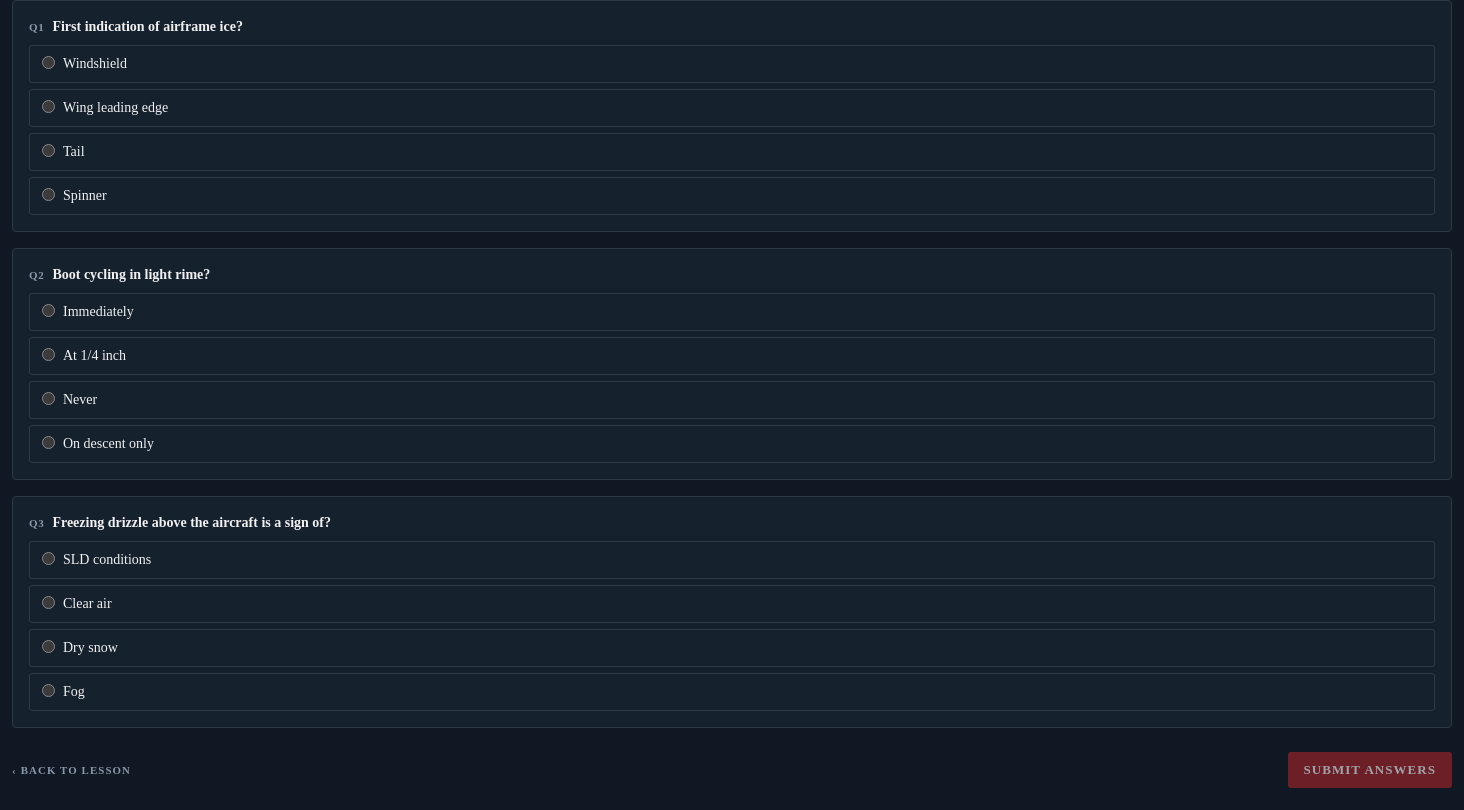
no partial submits › keeps Submit disabled until every question is answered
Check: the button "Submit answers" is disabled, box [1288, 752, 1452, 788]
Click the radio button labelled "Wing leading edge" at (48, 106), box [42, 100, 55, 113]
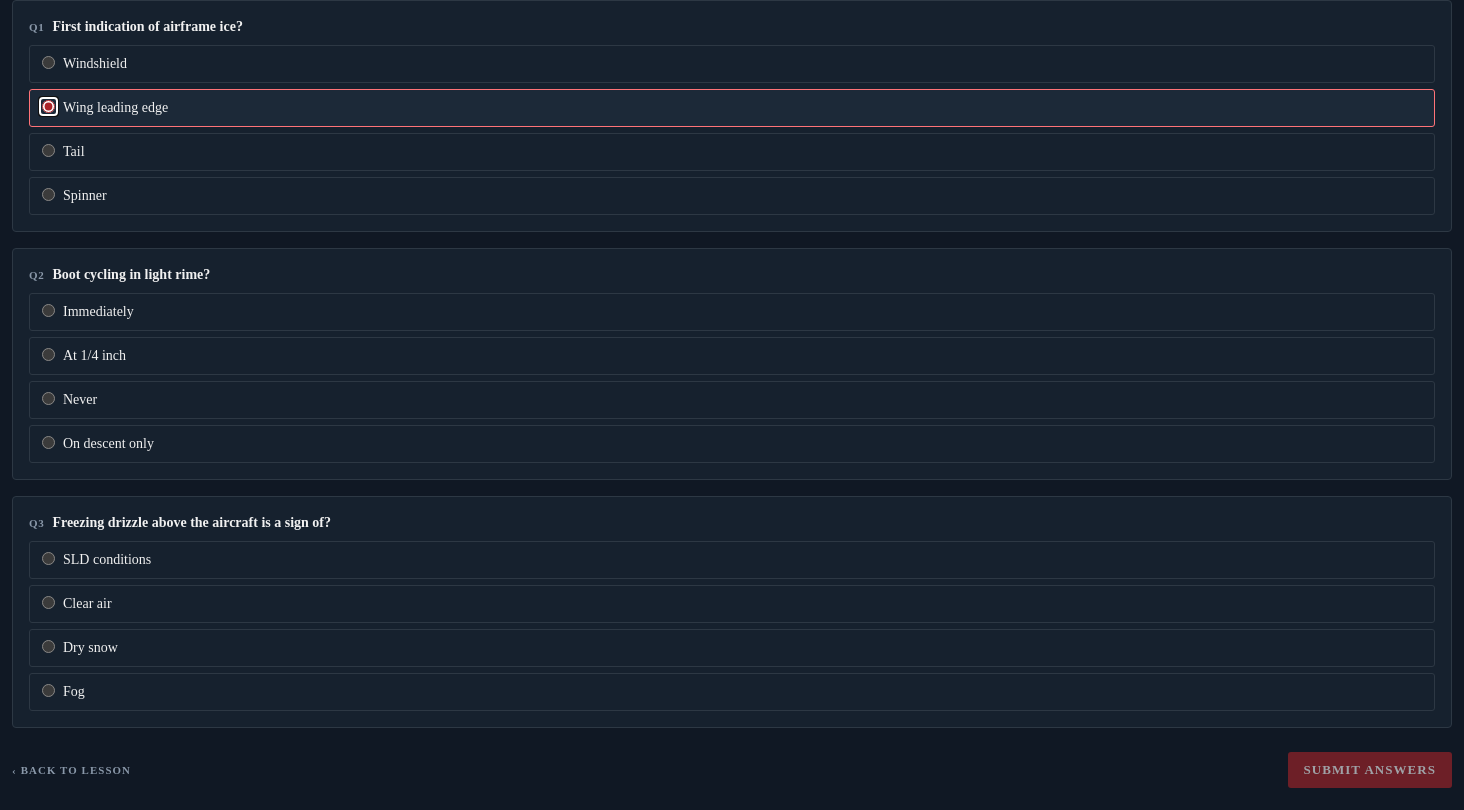
Check: the button "Submit answers" is disabled, box [1288, 752, 1452, 788]
Click the radio button labelled "At 1/4 inch" at (48, 354), box [42, 348, 55, 361]
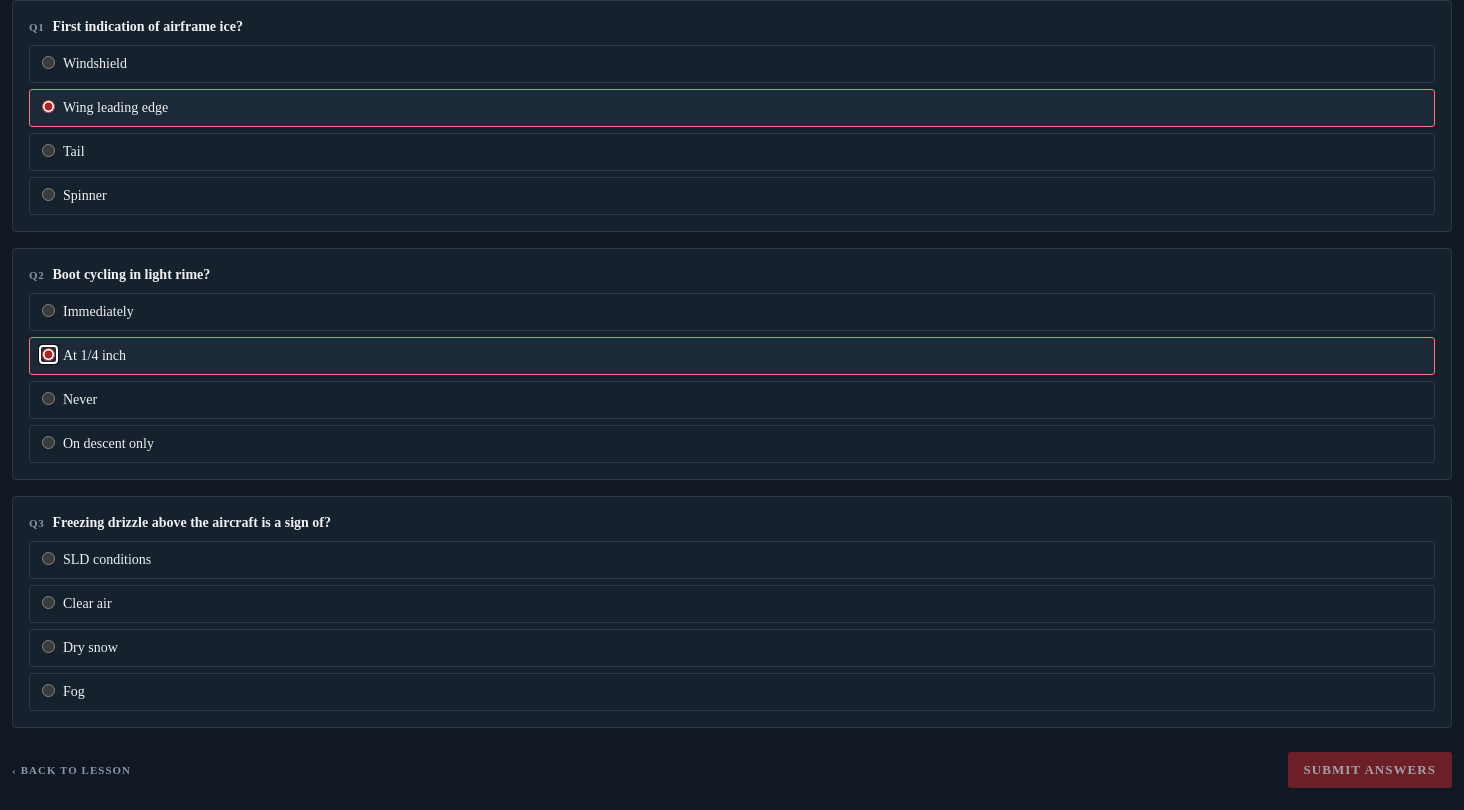
Check: the button "Submit answers" is disabled, box [1288, 752, 1452, 788]
Click the radio button labelled "SLD conditions" at (48, 558), box [42, 552, 55, 565]
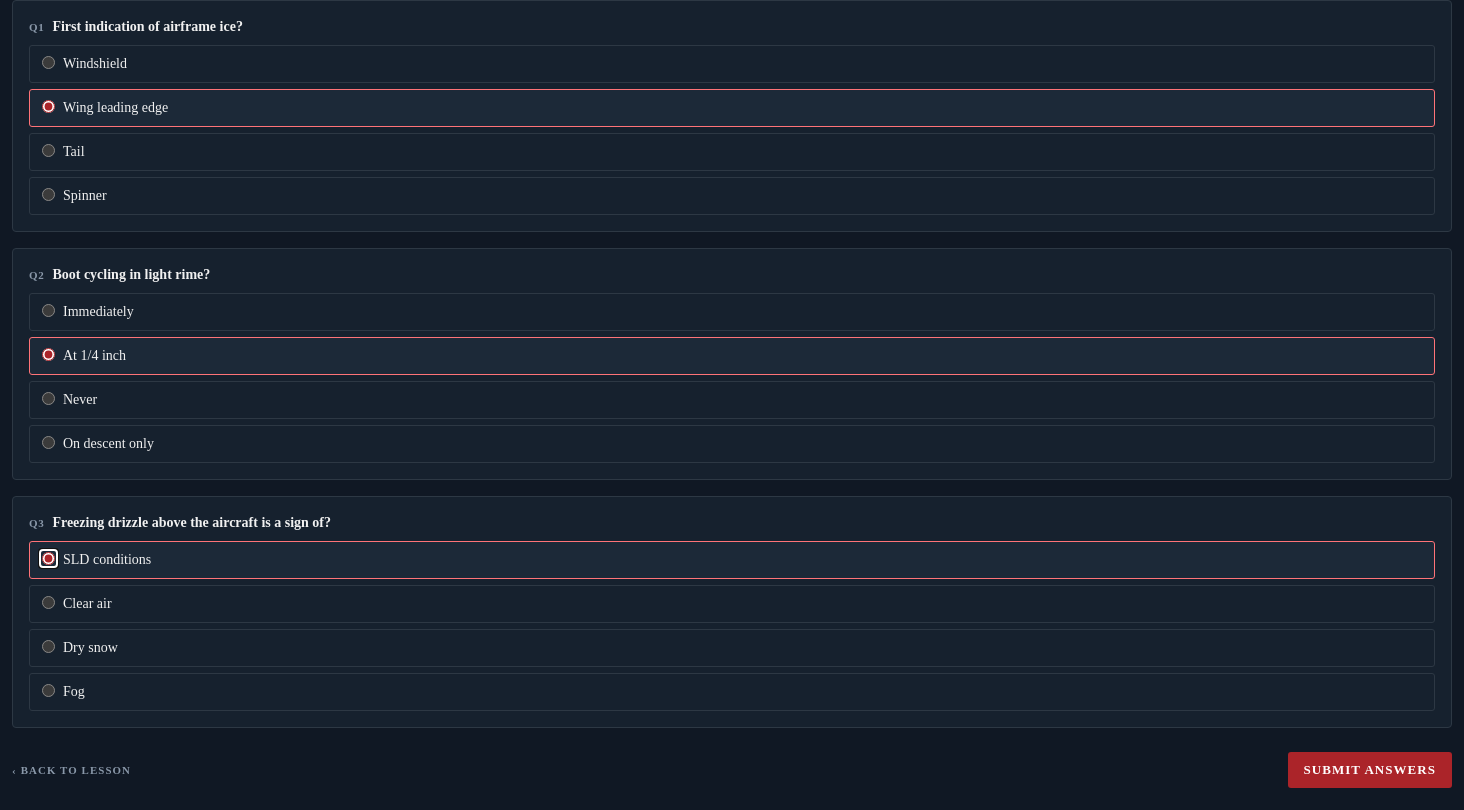
Check: the button "Submit answers" is enabled, box [1288, 752, 1452, 788]
